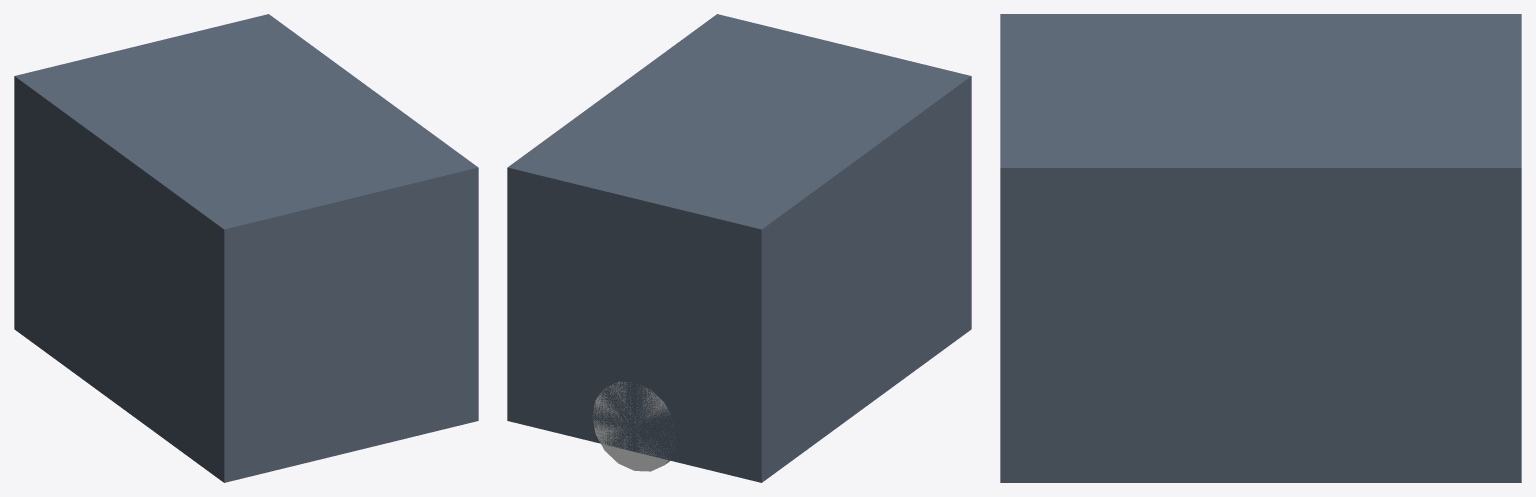
The model's file is coffee_machine.glb.
3 renders of one model, left to right at view 1: azimuth 30°, elevation 25°; view 2: azimuth 150°, elevation 25°; view 3: azimuth 270°, elevation 25°, orthographic. The views are drawn at different scales.
Visible parts, largest first — view 1: machine; view 2: machine, cup; view 3: machine.
Boxes of the visible parts, x1,y1,x2,y2 form: machine: (14, 14, 478, 482); machine: (507, 14, 971, 482); cup: (593, 381, 675, 471); machine: (1000, 14, 1521, 482).
Size of the model in its own units: 0.42 by 0.43 by 0.6.
